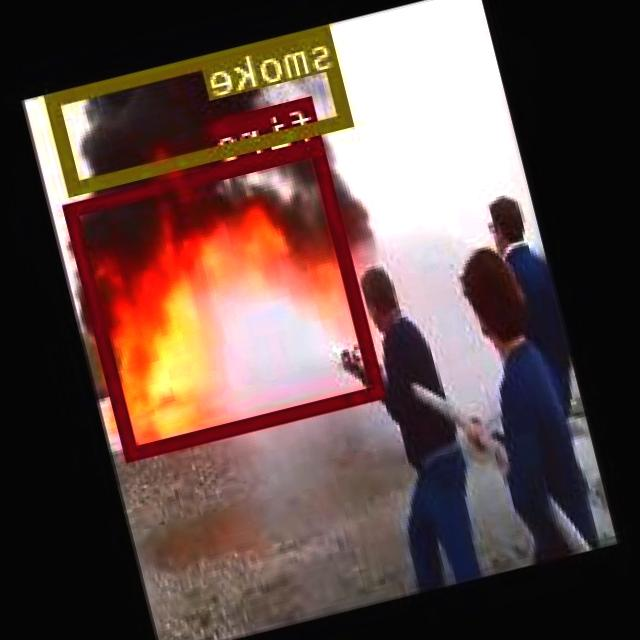fire: (65, 137, 386, 456)
smoke: (47, 20, 356, 194)
